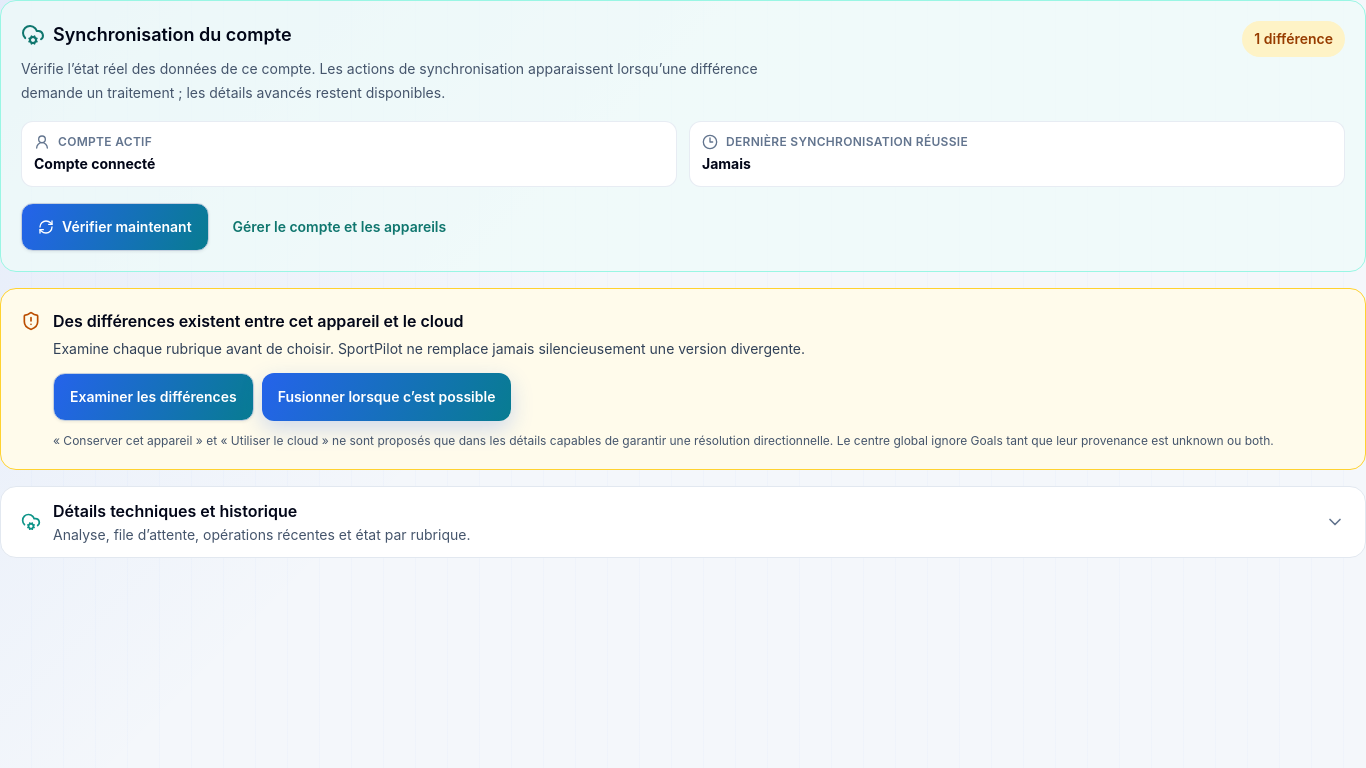
Test: UnifiedSyncCenterPanel › explique qu’une pesée peut légitimement modifier l’objectif du journal
Click the text "Détails techniques et historique": (175, 511) [53,501,297,521]
(page scrolled)
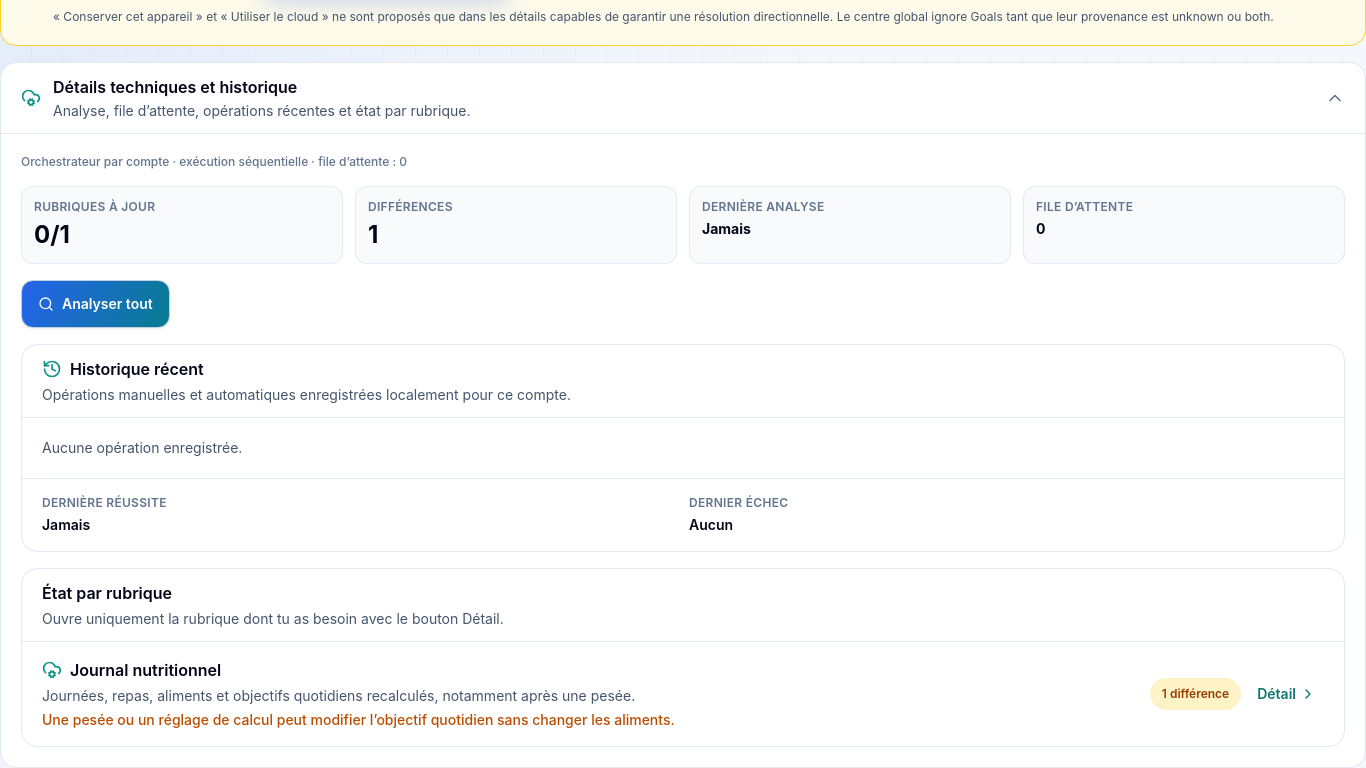
expect the text "objectifs quotidiens recalculés, notamment après une pesée" is shown: met, box [42,687,635,704]
expect the text "peut modifier l’objectif quotidien sans changer les aliments" is shown: met, box [42,711,675,728]
